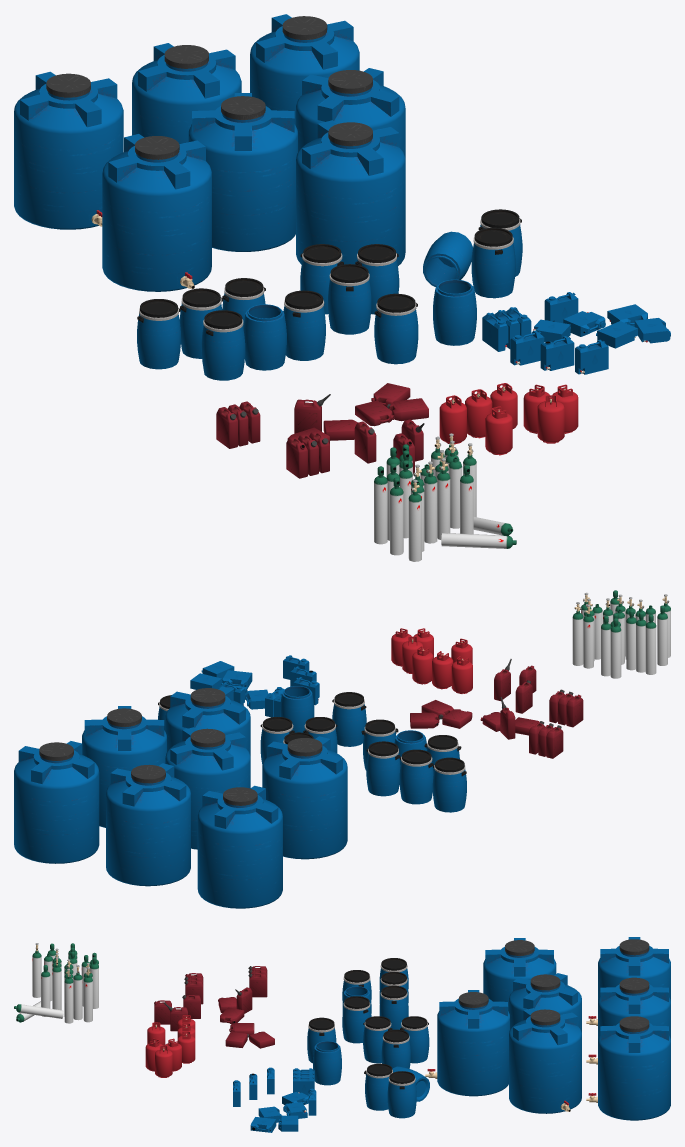
File: ContainersPack.gltf
3 views of the same model, one above another, from view 1: azimuth 30°, elevation 25°; view 2: azimuth 150°, elevation 25°; view 3: azimuth 270°, elevation 25° (orthographic). The views are drawn at different scales.
Parts seen in each view (by area): view 1: WaterTank_3, WaterTank_2, WaterTank_1, WaterDrum_4, WaterDrum_5, WaterDrum_3, WaterDrum_6, GasPropane_2, WaterDrum_1, GasPropane_3, WaterDrum_2, OxyTank_9 (+17 smaller); view 2: WaterTank_2, WaterTank_3, WaterTank_1, WaterDrum_3, WaterDrum_4, GasPropane_2, WaterDrum_5, OxyTank_4, WaterDrum_1, OxyTank_8, GasJerryCan_7, OxyTank_7 (+11 smaller); view 3: WaterTank_3, WaterTank_2, WaterDrum_5, WaterTank_1, WaterDrum_6, WaterDrum_4, WaterDrum_3, GasPropane_3, WaterDrum_2, OxyTank_8, OxyTank_9, WaterJug_6 (+16 smaller).
Part boxes in pixels (x1,y1,x2,y2): WaterTank_3: [188, 68, 405, 265]; WaterTank_2: [14, 14, 359, 229]; WaterTank_1: [102, 134, 211, 291]; WaterDrum_4: [201, 290, 325, 380]; WaterDrum_5: [300, 244, 399, 334]; WaterDrum_3: [137, 278, 265, 369]; WaterDrum_6: [423, 209, 522, 298]; GasPropane_2: [439, 383, 517, 444]; WaterDrum_1: [374, 293, 418, 364]; GasPropane_3: [523, 384, 578, 443]; WaterDrum_2: [433, 279, 476, 345]; OxyTank_9: [441, 465, 516, 548]; WaterTank_2: [14, 741, 282, 908]; WaterTank_3: [82, 686, 250, 849]; WaterTank_1: [262, 736, 347, 859]; WaterDrum_3: [366, 741, 466, 812]; WaterDrum_4: [361, 719, 461, 773]; GasPropane_2: [412, 646, 472, 693]; WaterDrum_5: [260, 717, 337, 765]; OxyTank_4: [626, 609, 656, 674]; WaterDrum_1: [332, 692, 366, 746]; OxyTank_8: [572, 598, 594, 668]; GasJerryCan_7: [410, 700, 472, 728]; OxyTank_7: [601, 613, 621, 678]; WaterTank_3: [425, 973, 581, 1113]; WaterTank_2: [586, 937, 670, 1120]; WaterDrum_5: [363, 1016, 429, 1068]; WaterTank_1: [483, 938, 556, 1011]; WaterDrum_6: [364, 1063, 429, 1118]; WaterDrum_4: [342, 970, 371, 1043]; WaterDrum_3: [379, 958, 408, 1029]; GasPropane_3: [145, 1038, 181, 1077]; WaterDrum_2: [313, 1041, 341, 1085]; OxyTank_8: [73, 962, 92, 1022]; OxyTank_9: [14, 965, 63, 1022]; WaterJug_6: [250, 1106, 298, 1132].
Size of what is drawn, in the model's own units: 9.48 by 2.51 by 17.93.
6 materials, 6 textured.
